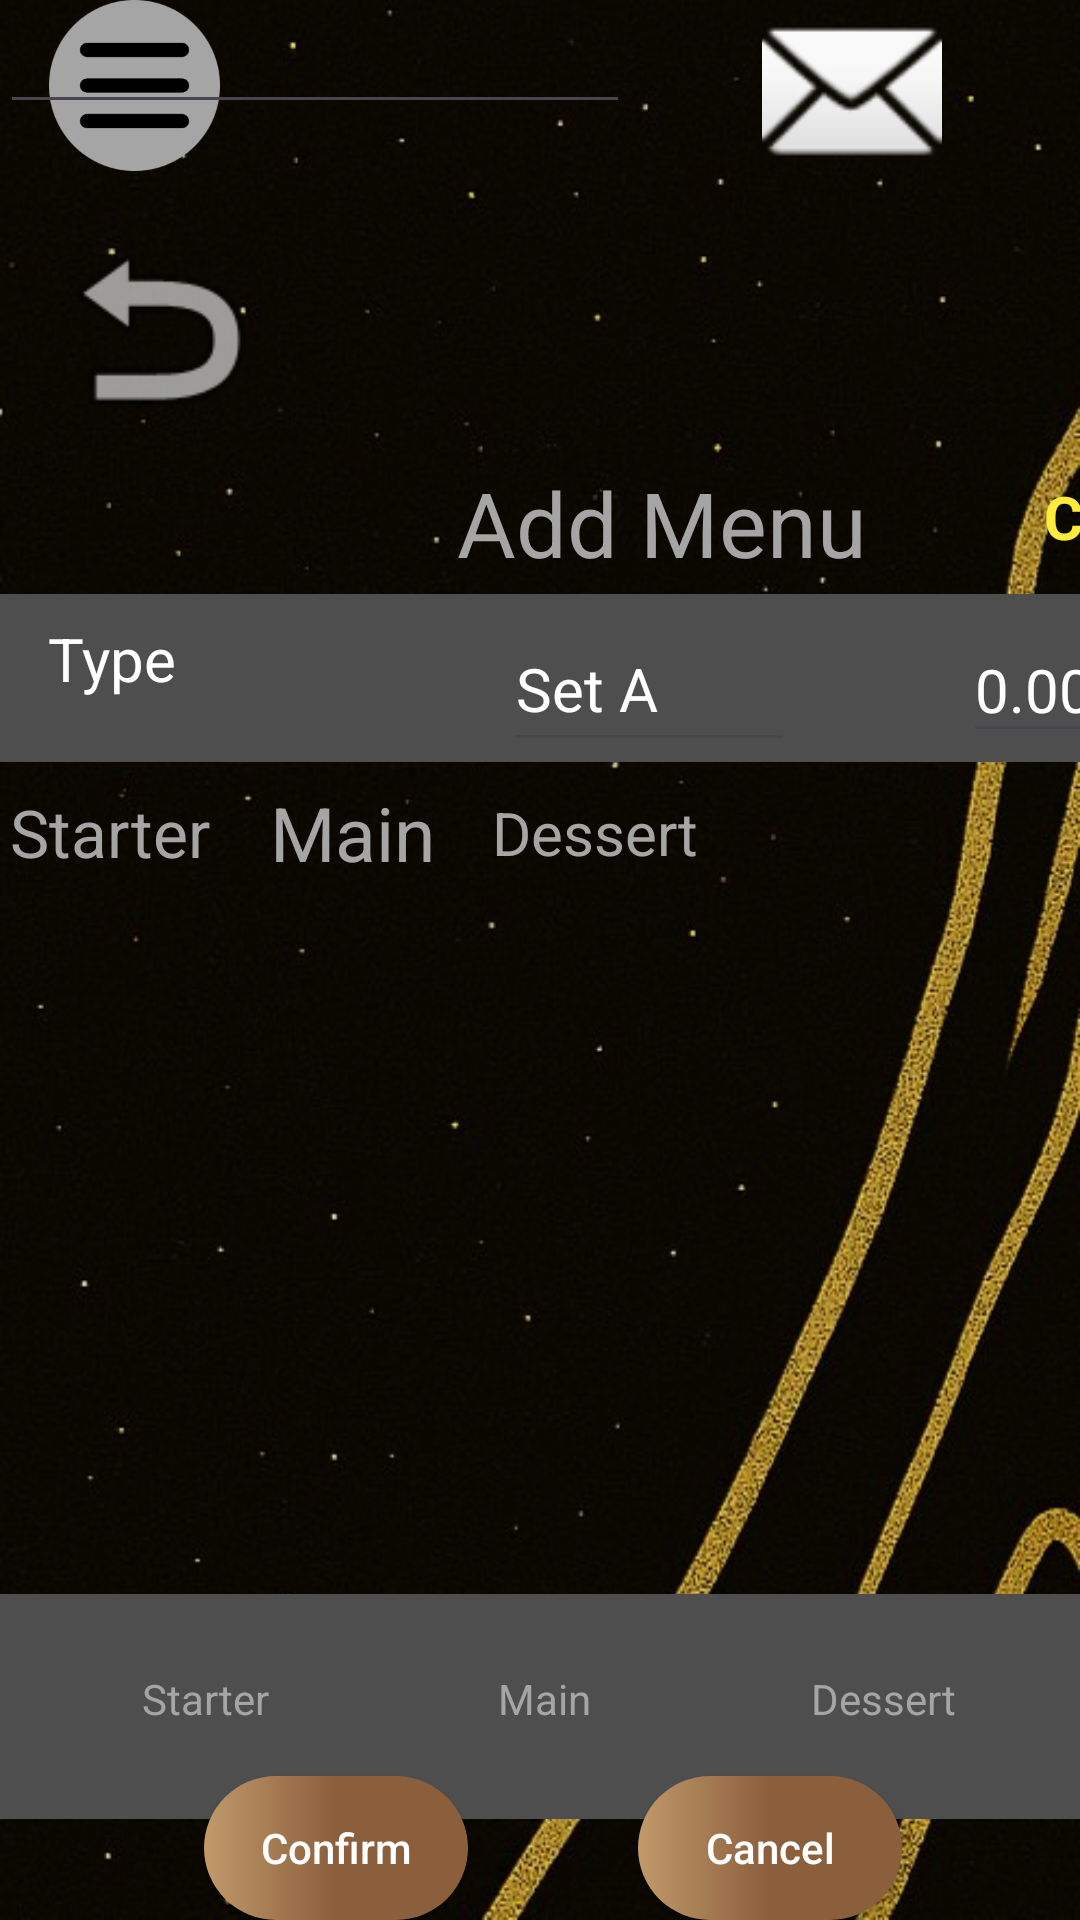

Locate icon controls on the screen. Image size 1080w x 1920h, boxes as [x1,y1,x2,y2].
burger menu: [40,0,229,171]
email: [718,27,974,180]
revert: [83,248,246,423]
